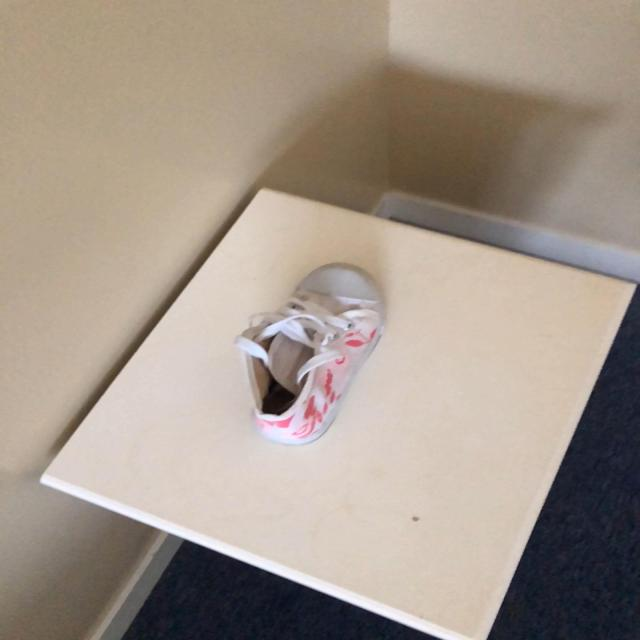shoe: (234, 262, 387, 449)
